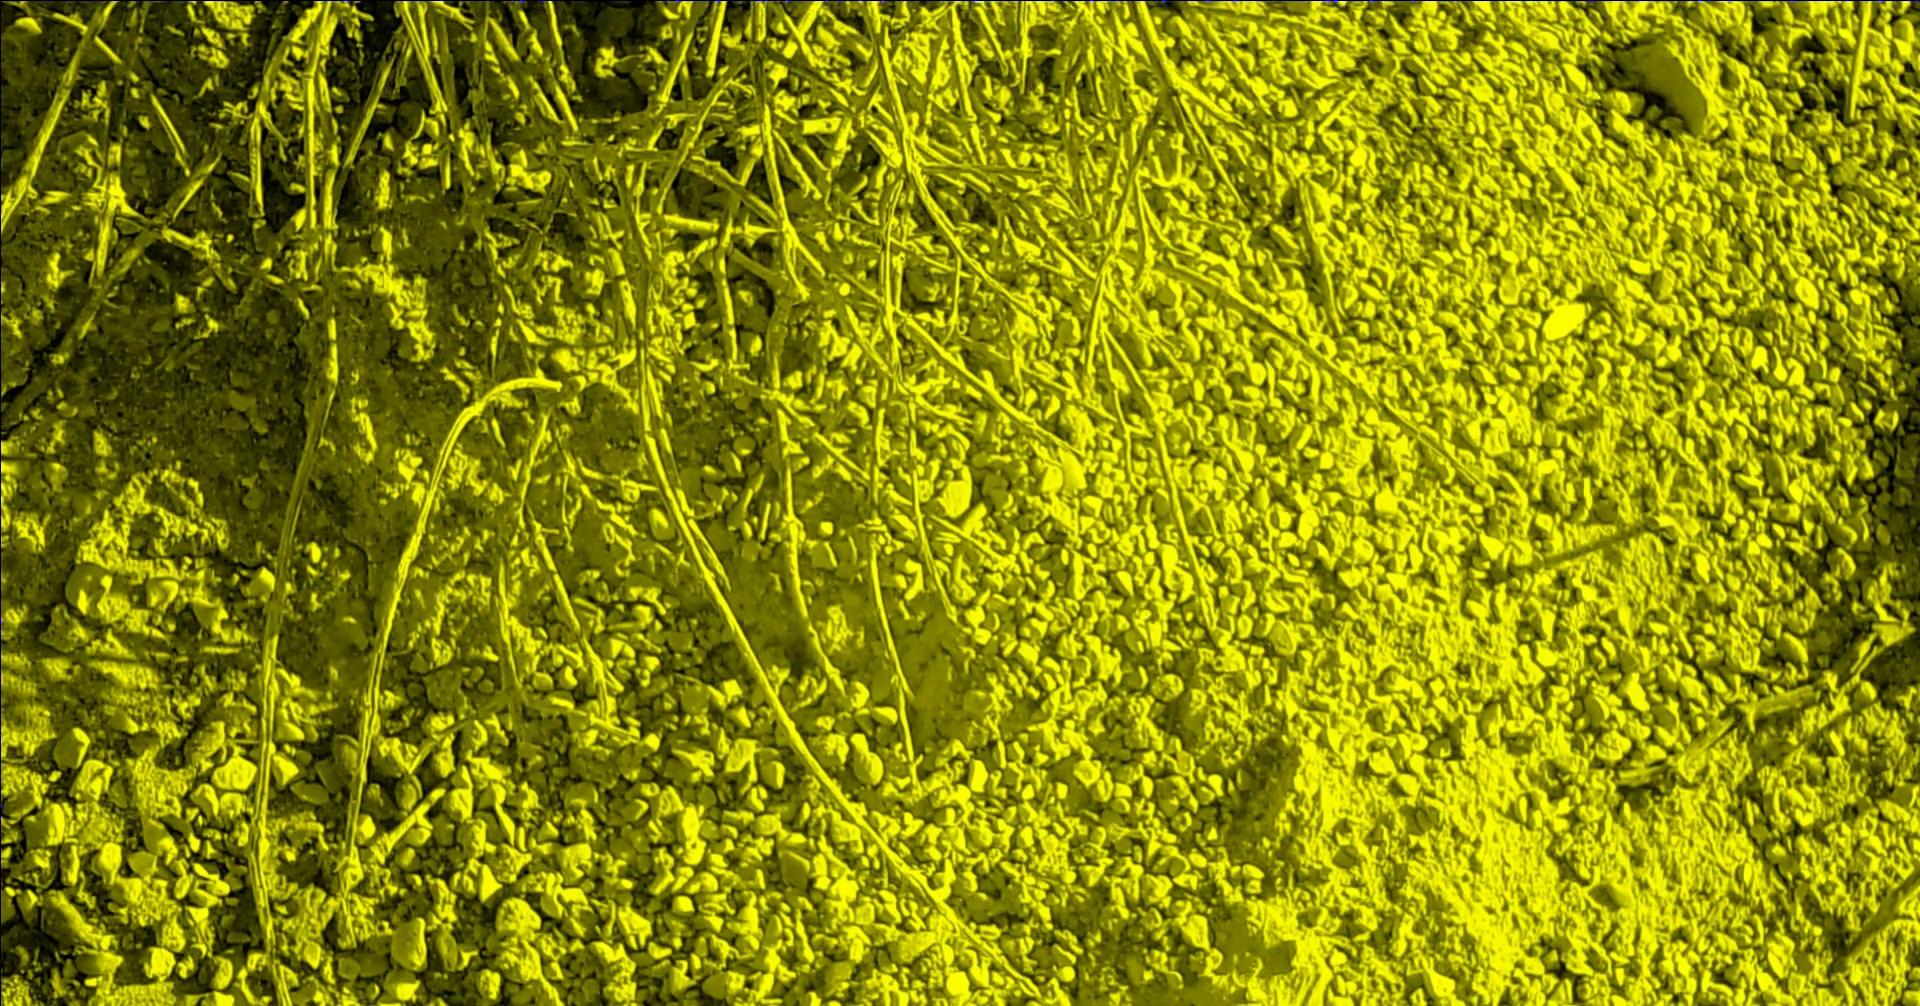ant: (749, 0, 803, 3)
